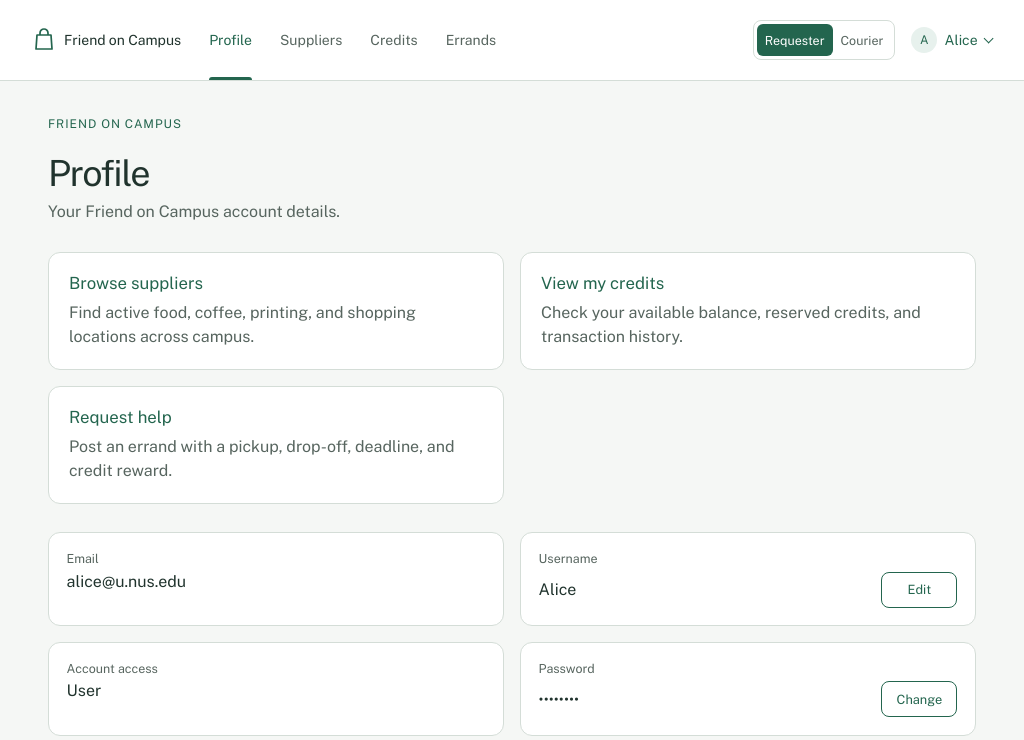
it: shows duplicate username feedback from the live profile screen
The width and height of the screenshot is (1024, 740).
Click the button with aria-label "Edit username" at (919, 590), box 881,572 -> 957,608
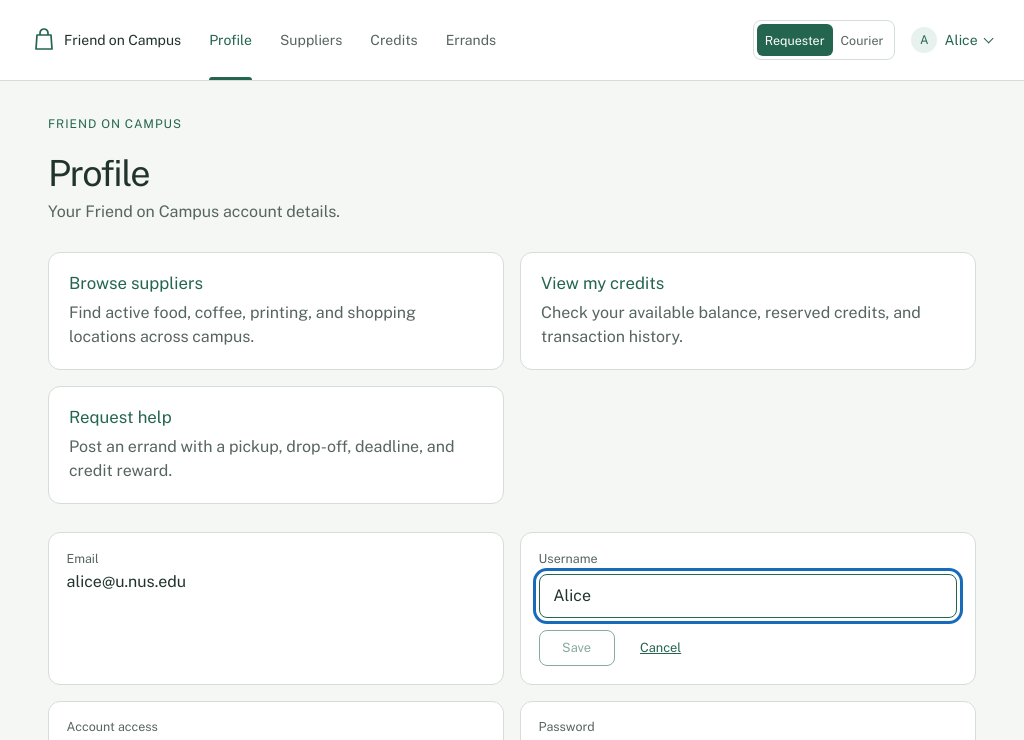
Replace the text in the field named "Username" with "Taken" at (748, 596), box 539,574 -> 957,618
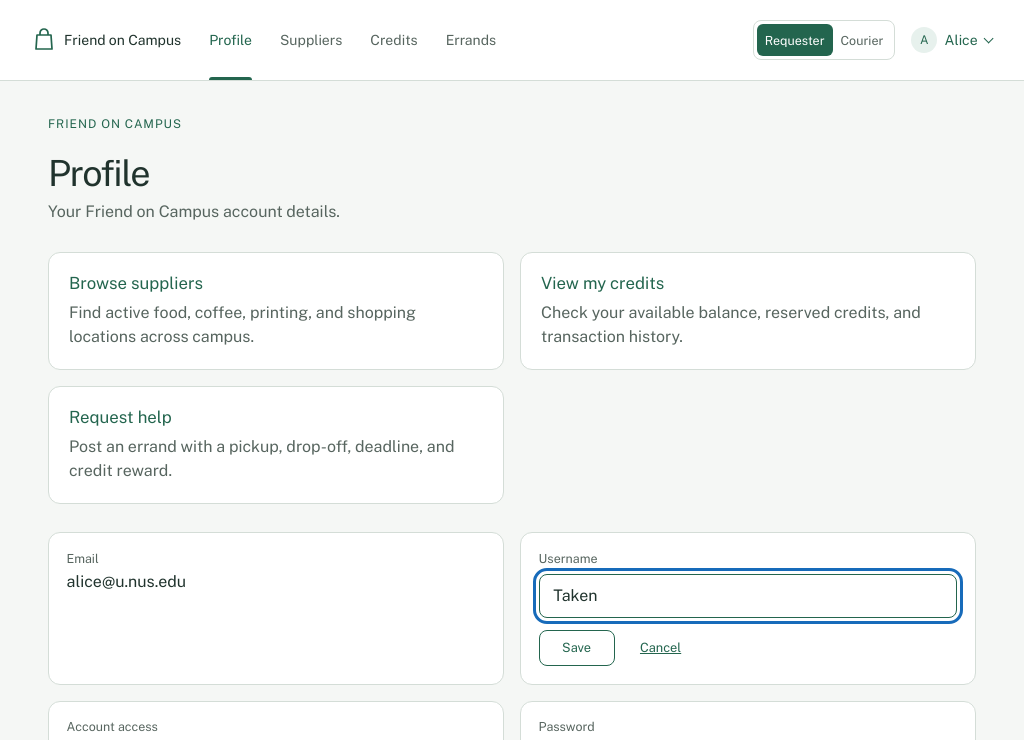
Click the button "Save" at (577, 648), box 539,630 -> 615,666
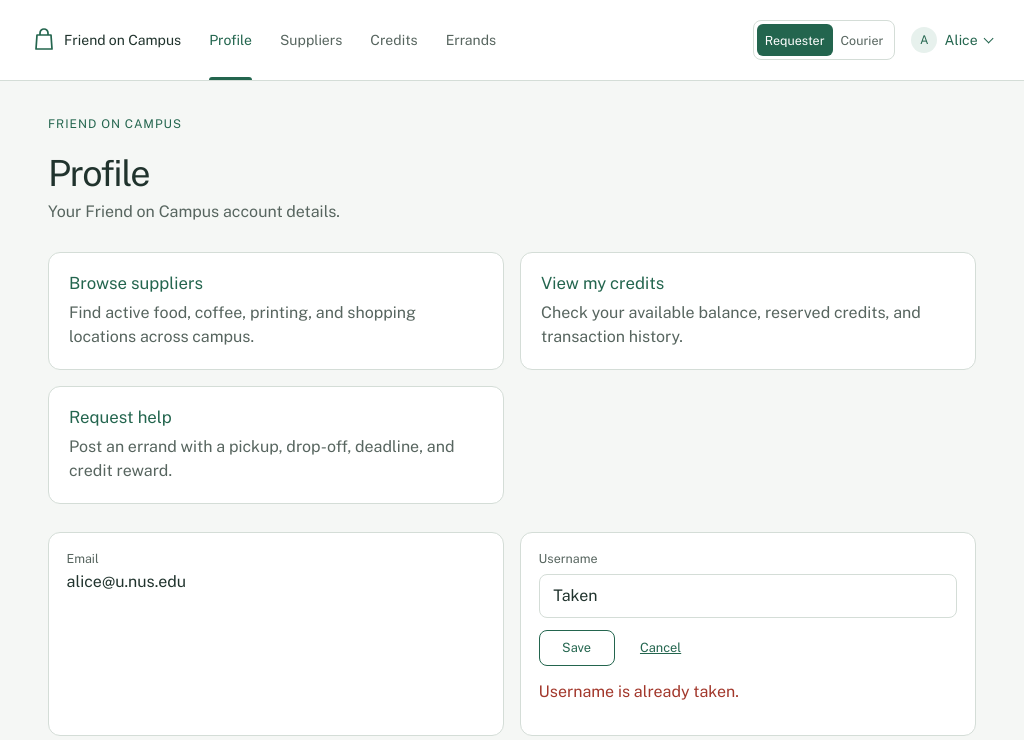
Expected: the message reads "Username is already taken.", 539,682 -> 739,701
